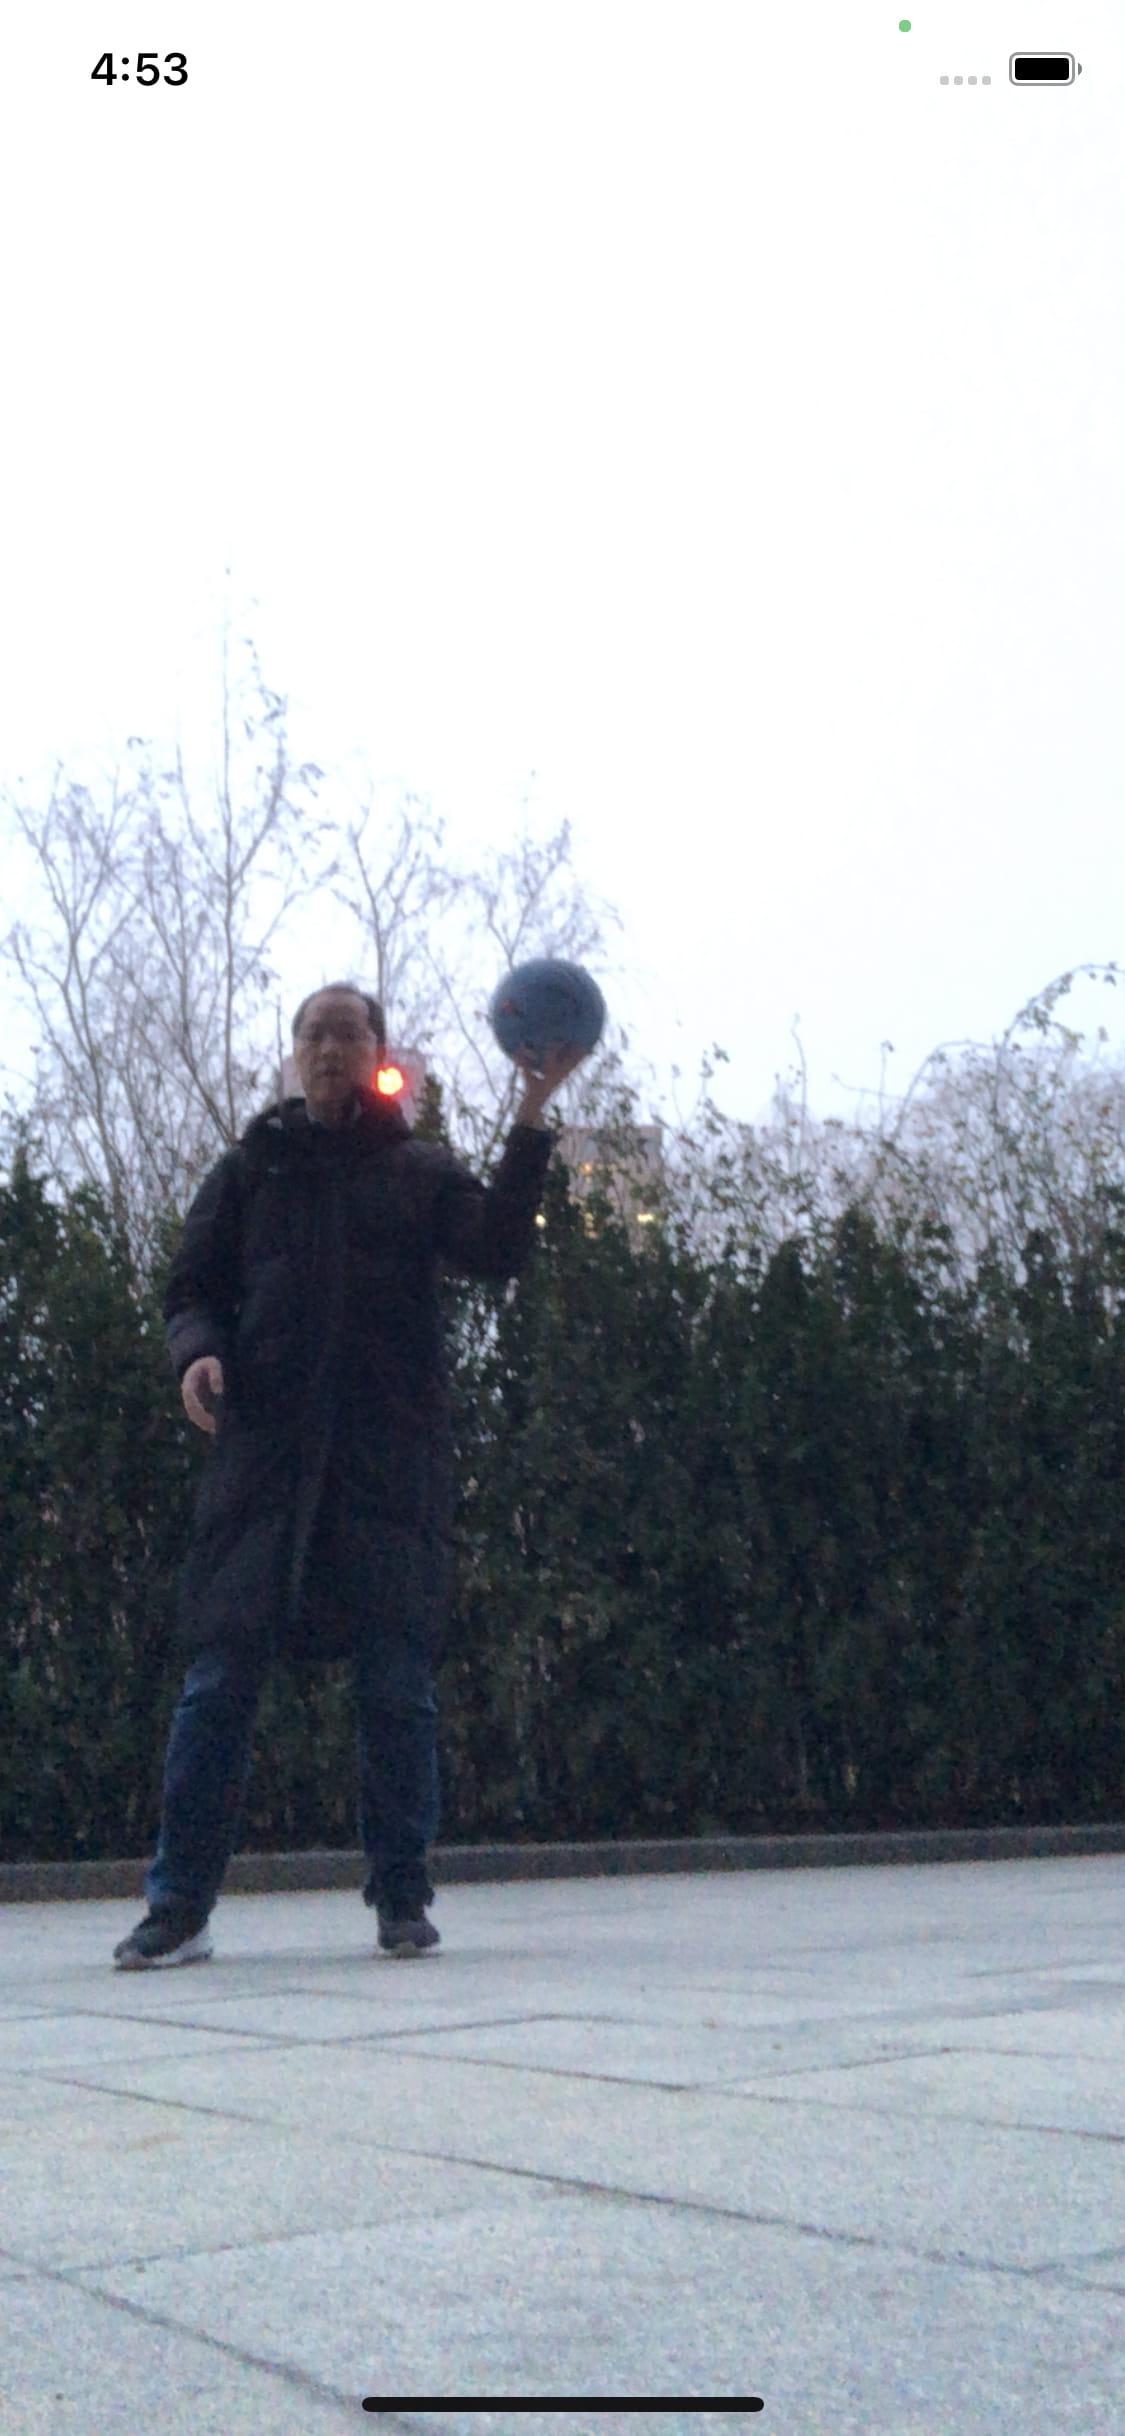ball: (489, 952, 609, 1070)
